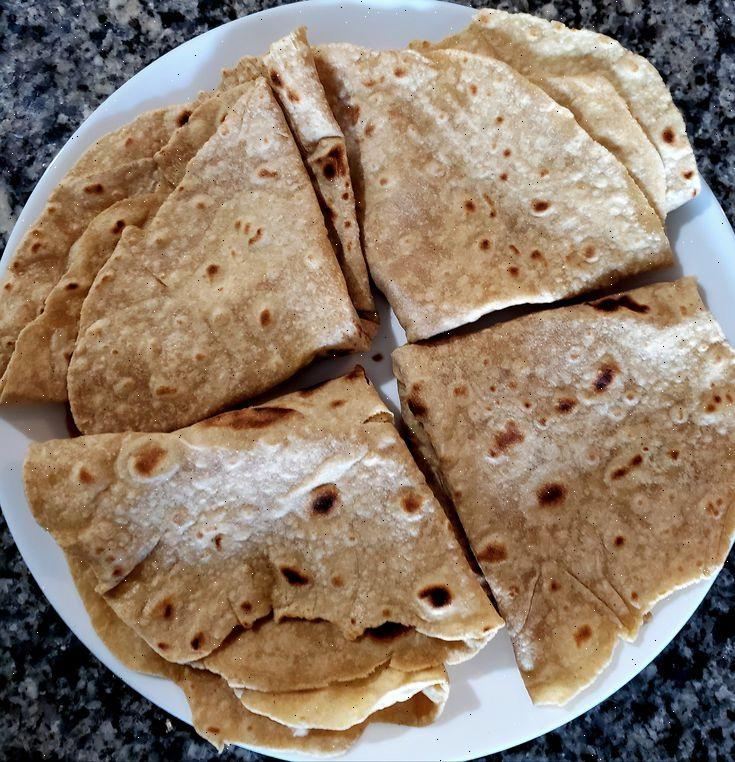roti phulka: (0, 8, 735, 759)
